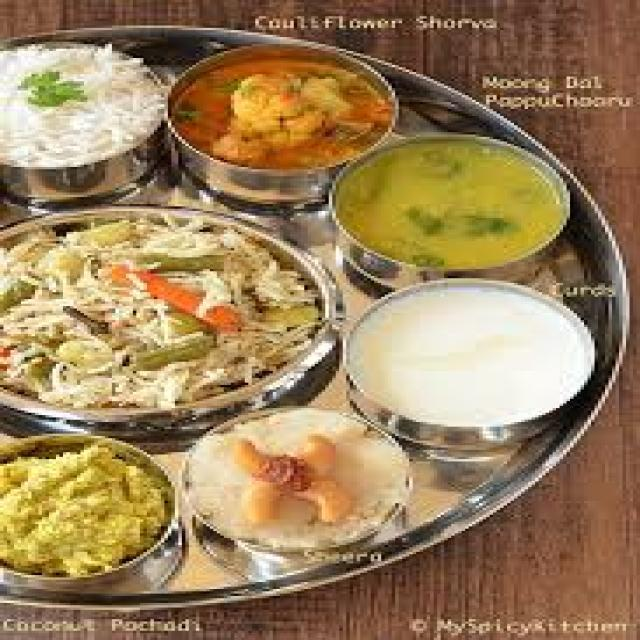curd: (341, 276, 612, 449)
dal: (351, 136, 560, 278)
papad: (0, 428, 179, 576)
raita: (342, 281, 617, 446)
rice: (0, 41, 173, 179)
veg-fry: (165, 44, 392, 176)
